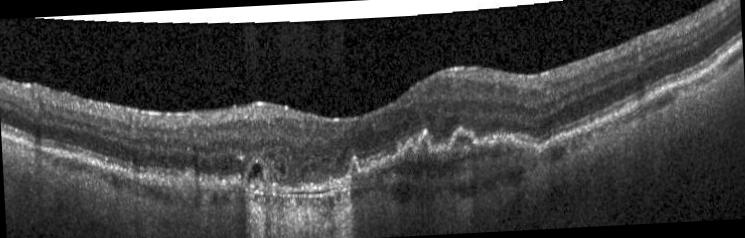intraretinal_cyst: (273, 164, 285, 175)
subretinal_fluid: (246, 163, 261, 182)
subretinal_hyperreflective_material: (333, 128, 540, 190), (239, 157, 280, 190)
